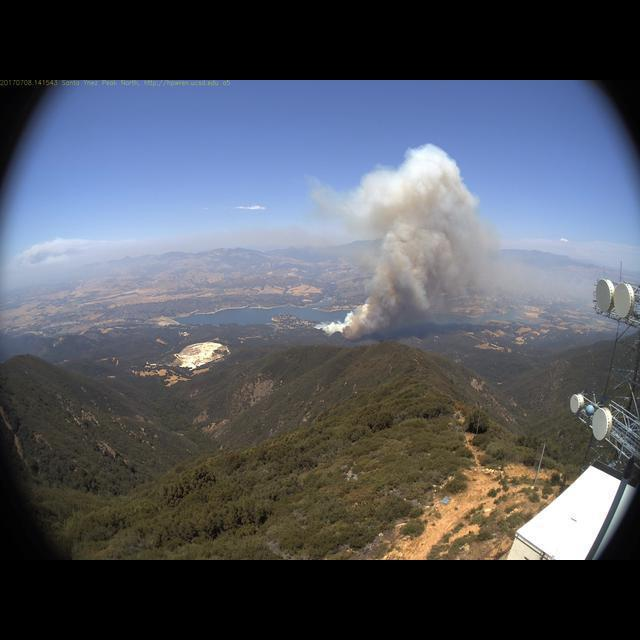Smoke: (307, 142, 506, 339)
